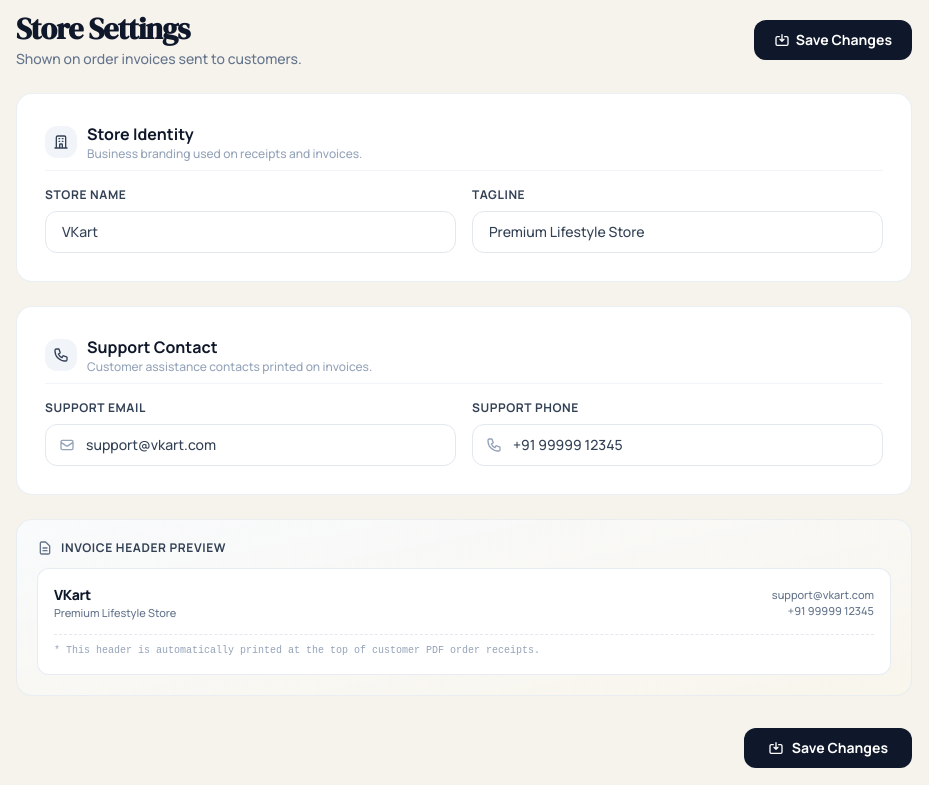
Test: AdminSettings Component › updates the live invoice preview as fields change
Replace the text in the field with placeholder "e.g. VKart" below "Store Name" with "Acme Store" at (250, 232), box 45,211 -> 456,253
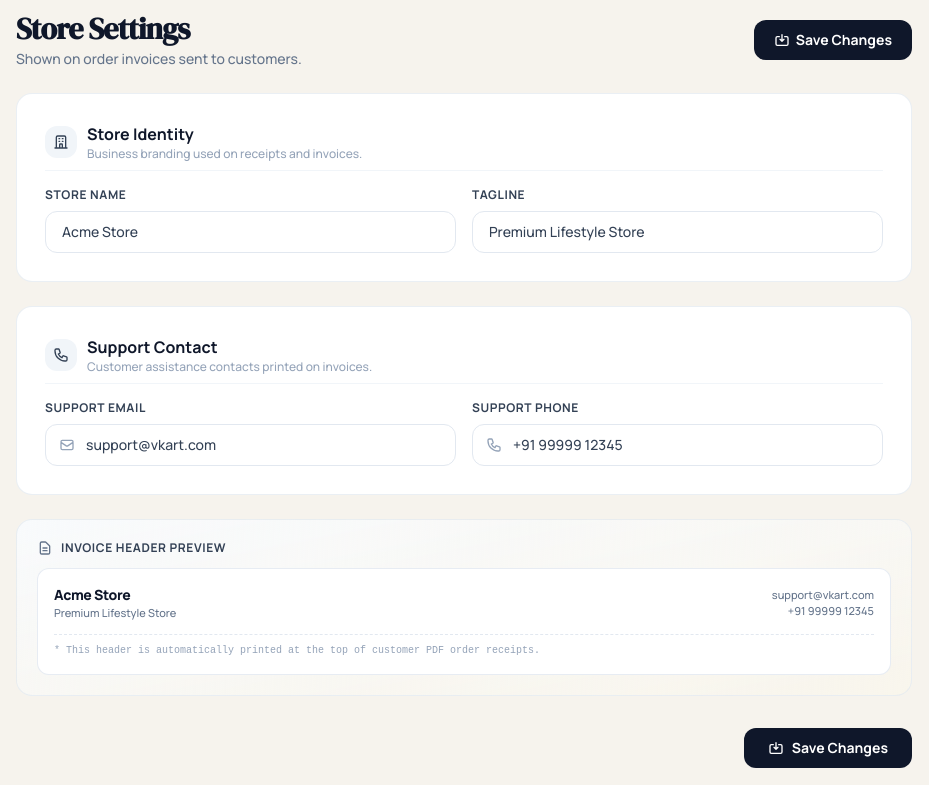
Expected: the text "Acme Store" is shown, 54,585 -> 130,604
